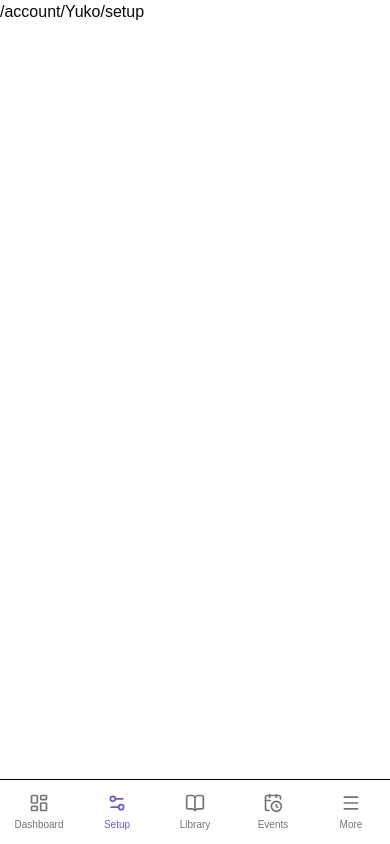
MobileNavigation › navigates from both surfaces and closes the drawer after drawer navigation
The width and height of the screenshot is (390, 844).
Click the link "Events".
click(273, 811)  # box [258,792,288,830]
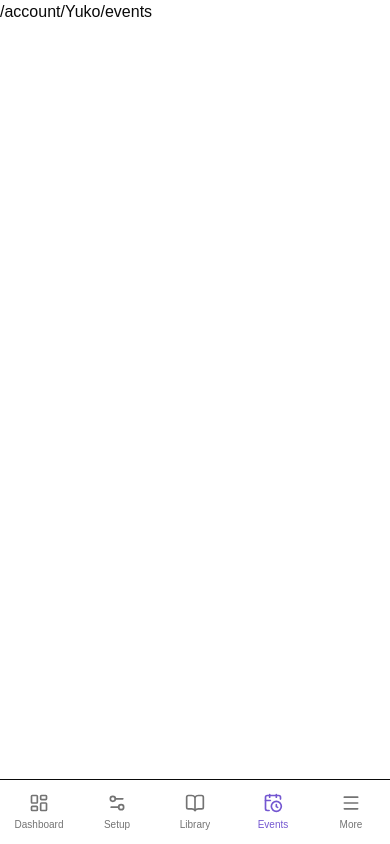
expect the text with test id "location" reads "/account/Yuko/events": met, box [0,3,152,20]
Click the button "More".
click(351, 812)  # box [312,780,389,843]
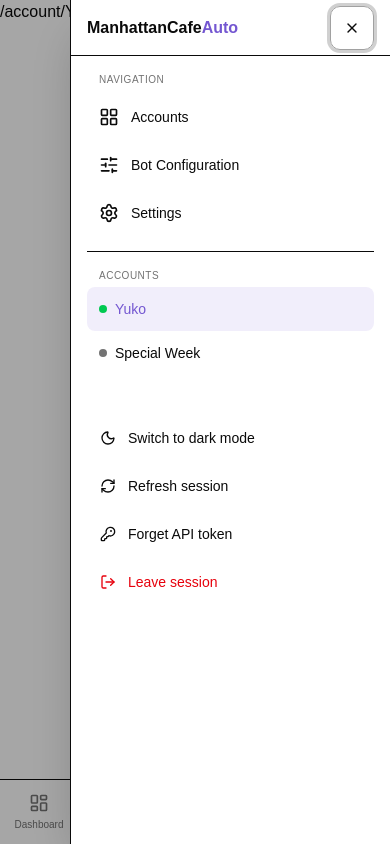
Click the link "Settings".
click(140, 213)  # box [99,203,182,223]
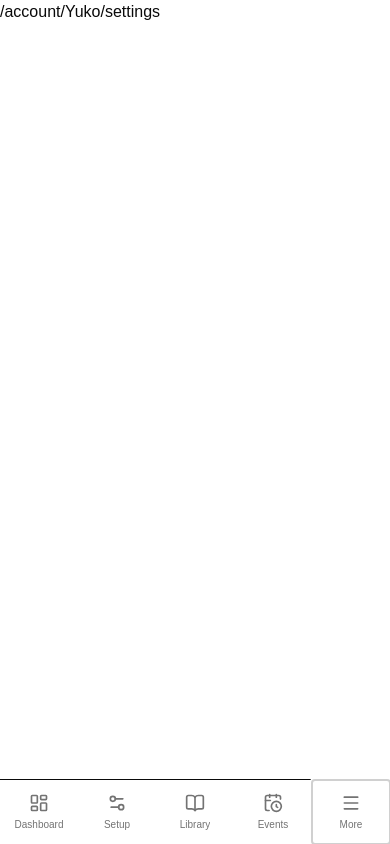
expect the text with test id "location" reads "/account/Yuko/settings": met, box [0,3,160,20]
expect the dialog is gone: met
